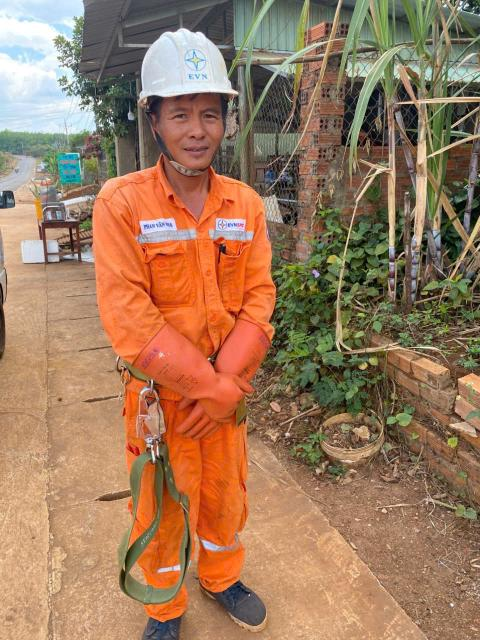gloves: (135, 318, 255, 424), (176, 319, 273, 434)
harness: (93, 333, 260, 402)
helmet: (132, 20, 245, 106)
shoes: (200, 561, 287, 640), (130, 597, 186, 640)
